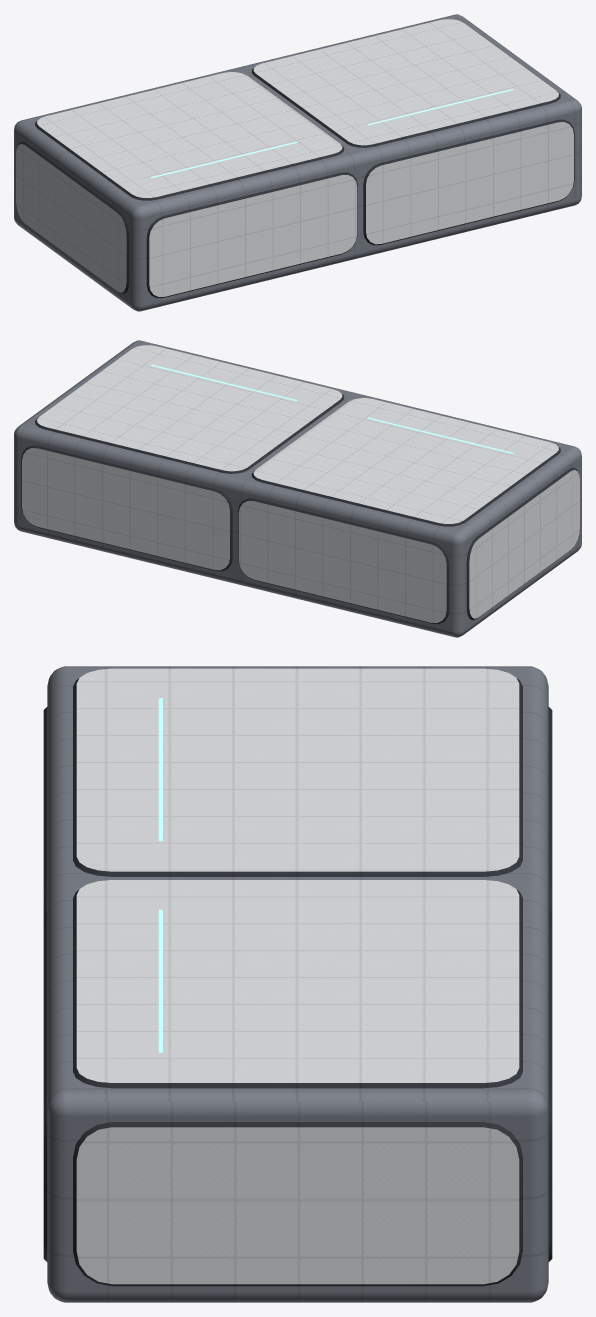
File: R4B_Plate1x2.glb
3 renders of one model, top to bottom at view 1: azimuth 30°, elevation 25°; view 2: azimuth 150°, elevation 25°; view 3: azimuth 270°, elevation 25°, orthographic. The views are drawn at different scales.
Parts seen in each view (by area): view 1: R4B_Plate1x2; view 2: R4B_Plate1x2; view 3: R4B_Plate1x2.
Boxes of the visible parts, box(x1,y1,x2,y2) form: R4B_Plate1x2: box(14, 14, 581, 311); R4B_Plate1x2: box(14, 340, 581, 637); R4B_Plate1x2: box(43, 666, 552, 1302).
Size of the model in its own units: 1.07 by 0.2462 by 0.52.
Materials: 4 (3 with a texture image).
